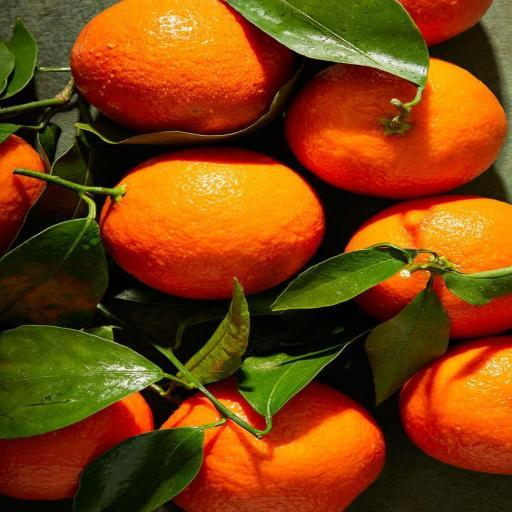orange: (100, 148, 324, 298), (286, 59, 507, 199), (71, 0, 295, 134)
